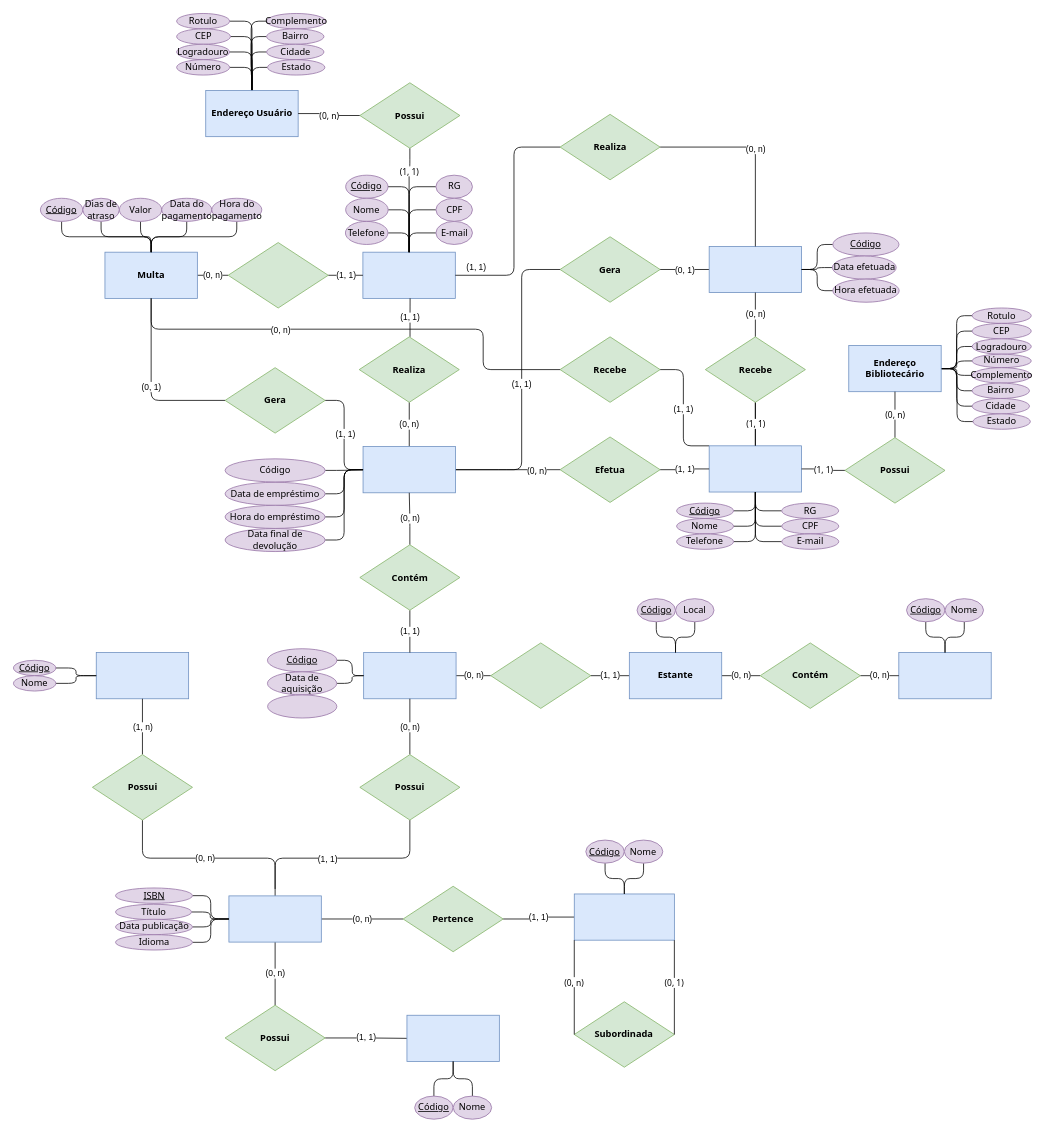
Image size: 1046x1133. Some labels were removed from this diagram. Here are the shapes that lost their labels. From the top down, the centre of each, then its label:
At (x=277, y=275): "Paga".
At (x=408, y=274): "Usuário".
At (x=755, y=269): "Devolução".
At (x=408, y=469): "Empréstimo".
At (x=755, y=468): "Bibliotecário".
At (x=142, y=675): "Autor".
At (x=409, y=675): "Exemplar".
At (x=540, y=675): "Guarda".
At (x=944, y=675): "Seção".
At (x=302, y=706): "Descrição".
At (x=274, y=918): "Livro".
At (x=623, y=916): "Categoria".
At (x=452, y=1037): "Editora".
